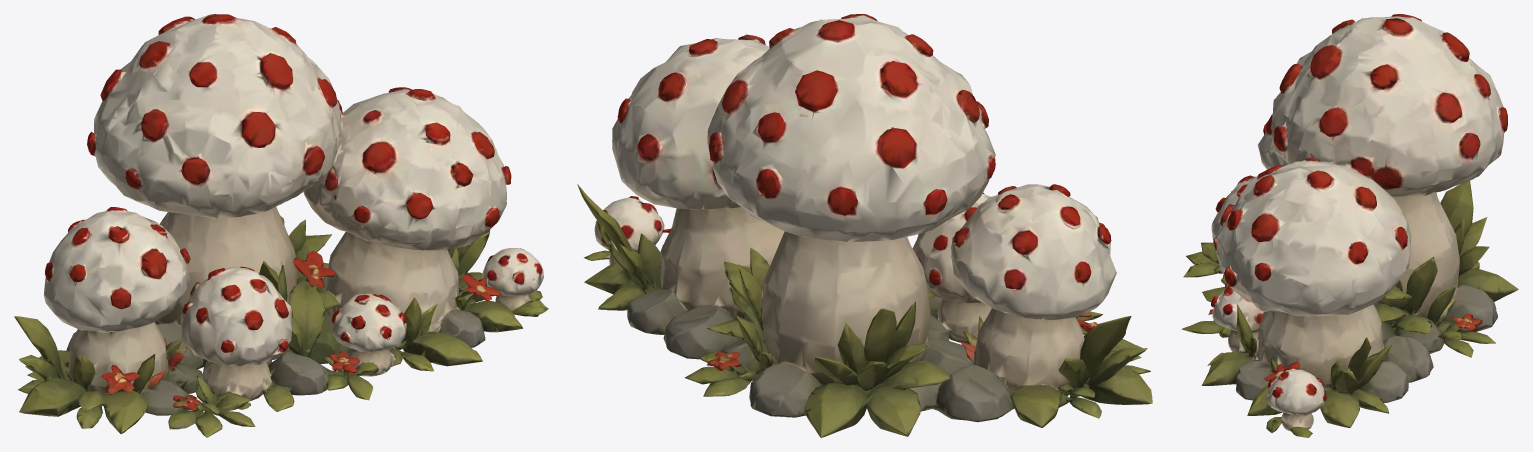
File: fen_mushrooms.glb
3 renders of one model, left to right at view 1: azimuth 30°, elevation 25°; view 2: azimuth 150°, elevation 25°; view 3: azimuth 270°, elevation 25°, orthographic. The views are drawn at different scales.
Parts seen in each view (by area): view 1: tripo_node_ad2f06cb-eb19-42bd-bd79-043410a71d57; view 2: tripo_node_ad2f06cb-eb19-42bd-bd79-043410a71d57; view 3: tripo_node_ad2f06cb-eb19-42bd-bd79-043410a71d57.
Boxes of the visible parts, box(x1,y1,x2,y2) form: tripo_node_ad2f06cb-eb19-42bd-bd79-043410a71d57: box(14, 14, 548, 437); tripo_node_ad2f06cb-eb19-42bd-bd79-043410a71d57: box(577, 14, 1152, 437); tripo_node_ad2f06cb-eb19-42bd-bd79-043410a71d57: box(1181, 14, 1518, 437).
Bounding box in the file's own units: 0.9813 × 0.5682 × 0.5929.
1 material, 1 textured.
